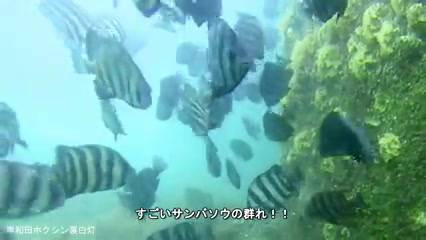ishidai: (44, 144, 138, 201), (247, 168, 305, 211)
